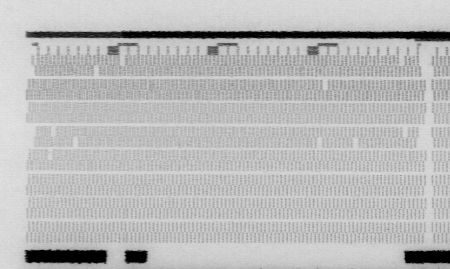Broken hole: (24, 124, 38, 150), (415, 126, 430, 150), (24, 54, 37, 78), (417, 56, 430, 78), (117, 55, 129, 68), (396, 57, 409, 69), (350, 136, 362, 148), (49, 125, 59, 139), (70, 135, 80, 149), (45, 150, 56, 162), (92, 65, 102, 78), (315, 137, 325, 149), (321, 79, 330, 92), (401, 126, 410, 138)
